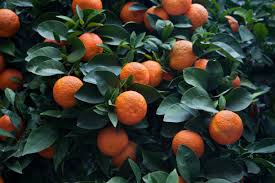orange: (207, 108, 244, 144), (114, 90, 149, 123), (173, 126, 205, 159), (53, 76, 84, 107), (95, 127, 129, 154), (76, 31, 105, 60), (121, 58, 148, 89), (170, 40, 196, 70), (141, 57, 164, 88), (144, 7, 169, 31)
